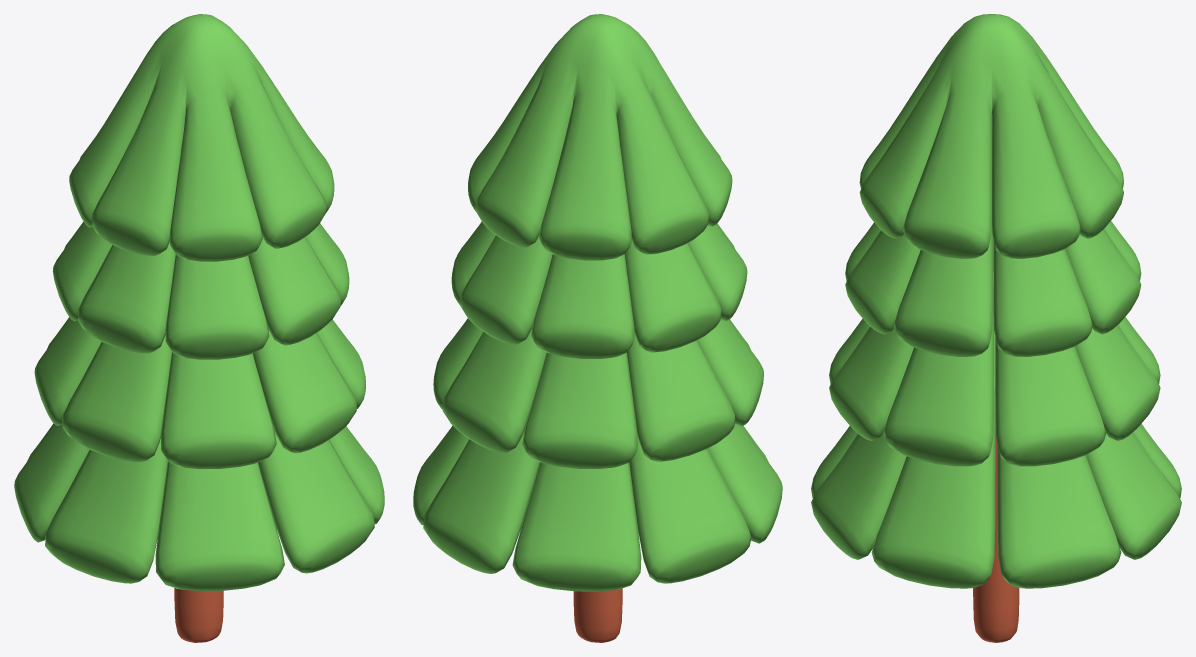
File: tree.glb
3 views of the same model, side by side, from view 1: azimuth 30°, elevation 25°; view 2: azimuth 150°, elevation 25°; view 3: azimuth 270°, elevation 25° (orthographic).
Parts seen in each view (by area): view 1: Cube, Cylinder; view 2: Cube, Cylinder; view 3: Cube, Cylinder.
Part boxes in pixels (x1,y1,x2,y2): Cube: (14,14,384,590); Cylinder: (174,588,223,642); Cube: (413,14,782,591); Cylinder: (573,588,622,642); Cube: (811,14,1181,588); Cylinder: (973,423,1019,642).
Size of the model in its own units: 2.74 by 5.07 by 2.74.
